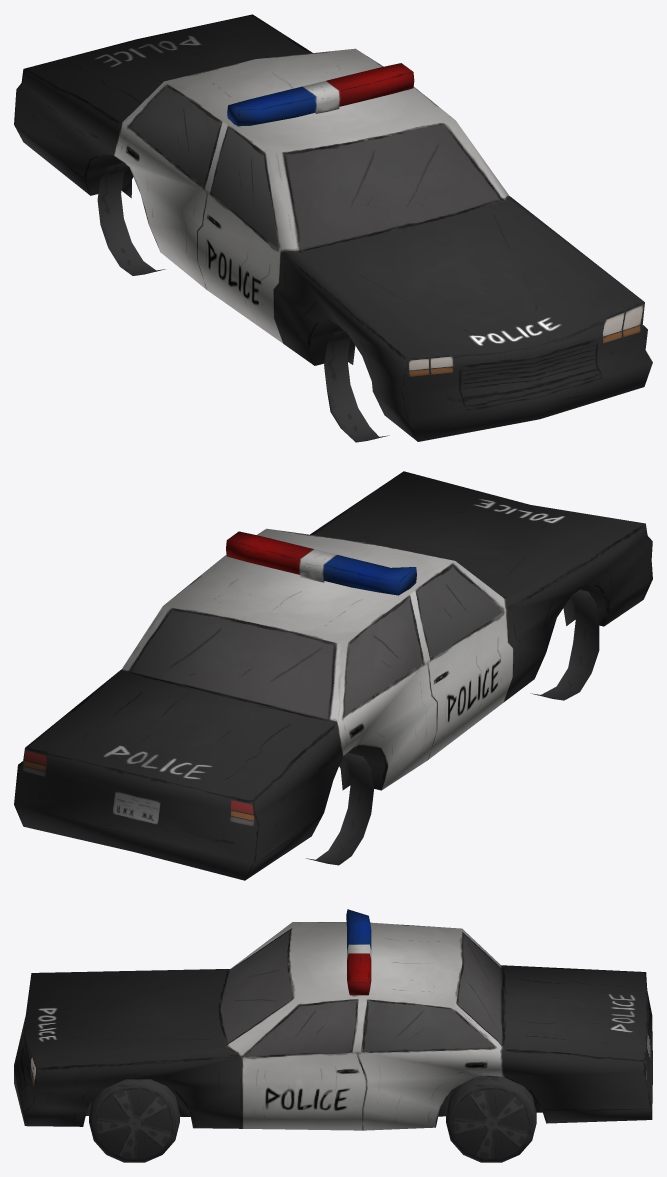
Rendered from Cop_car.fbx.
The picture shows the model from 3 angles, top to bottom: view 1: azimuth 30°, elevation 25°; view 2: azimuth 150°, elevation 25°; view 3: azimuth 270°, elevation 25°; orthographic projection. The views are drawn at different scales.
Visible parts, largest first — view 1: Cop_car; view 2: Cop_car; view 3: Cop_car.
Part boxes in pixels (left/top/right/bottom): Cop_car: left=14, top=14, right=652, bottom=442; Cop_car: left=14, top=471, right=652, bottom=880; Cop_car: left=14, top=909, right=652, bottom=1162.
Size of the model in its own units: 242 by 207 by 680.
